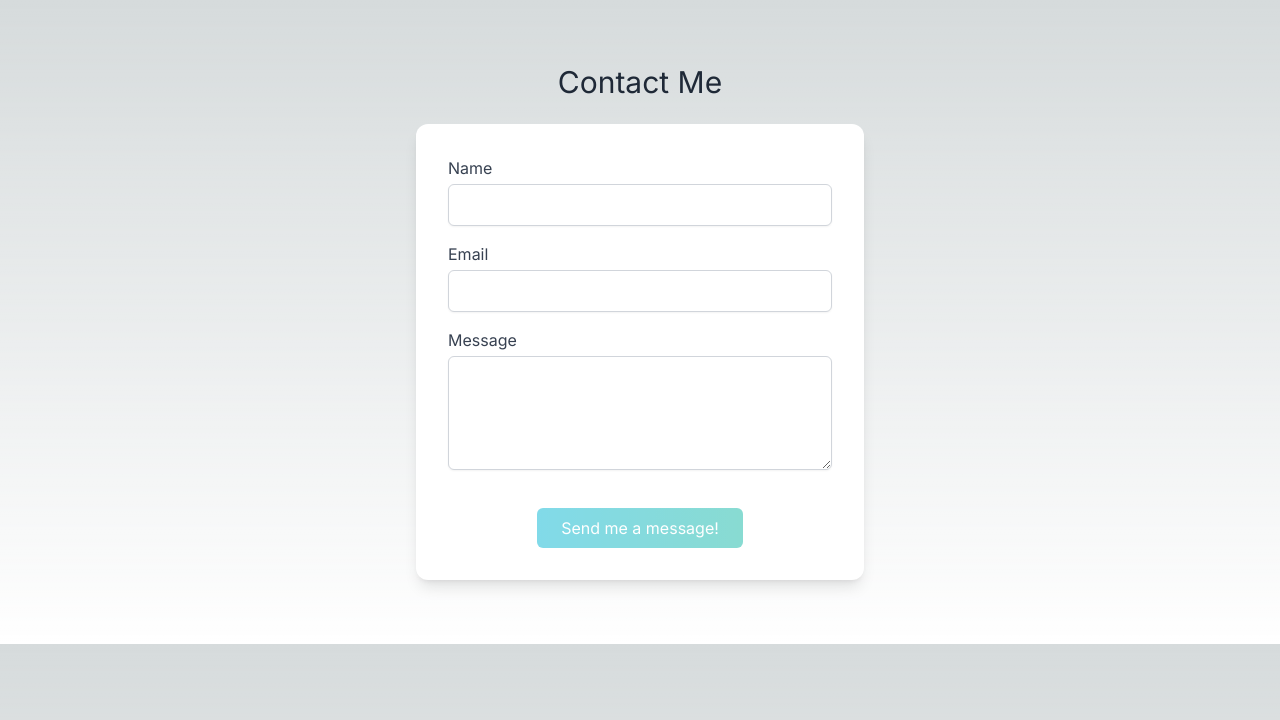
Scenario: Contact Component › validates message form field minimum length correctly
The image size is (1280, 720).
Type "short" into the text box labelled "Message" at (640, 413), box [448, 356, 832, 470]
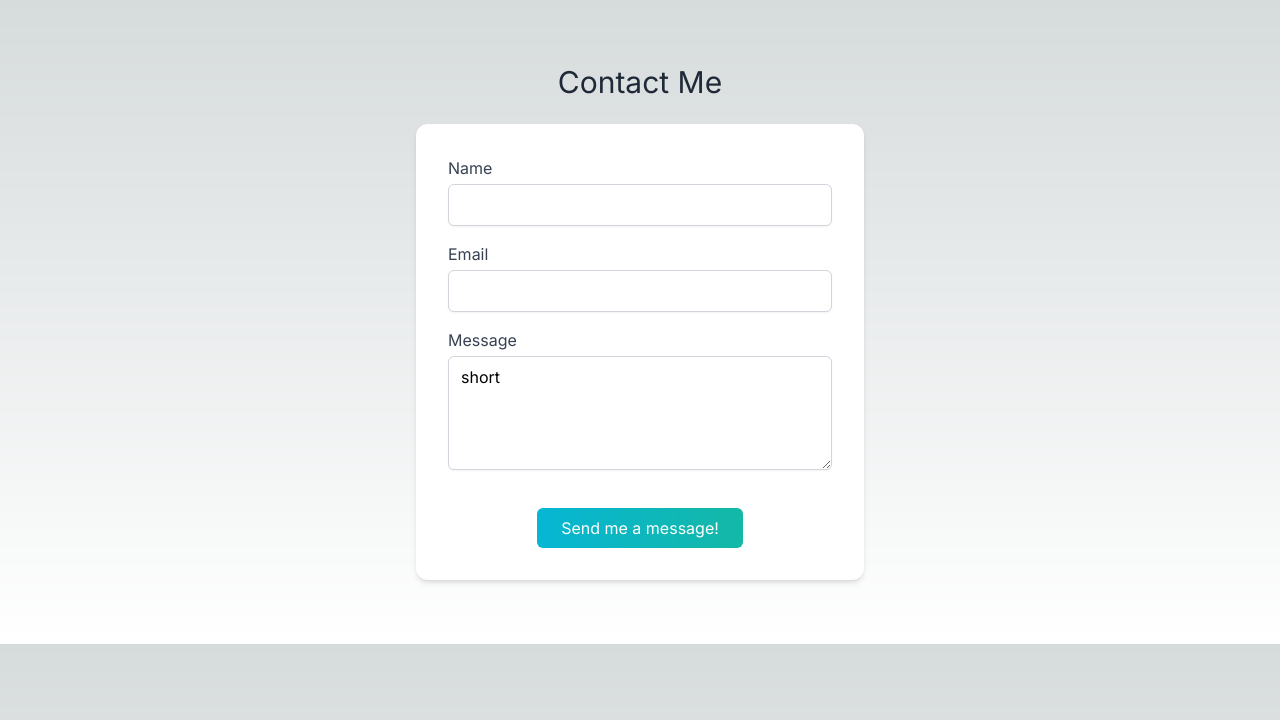
Leave the text box labelled "Message", box [448, 356, 832, 470]
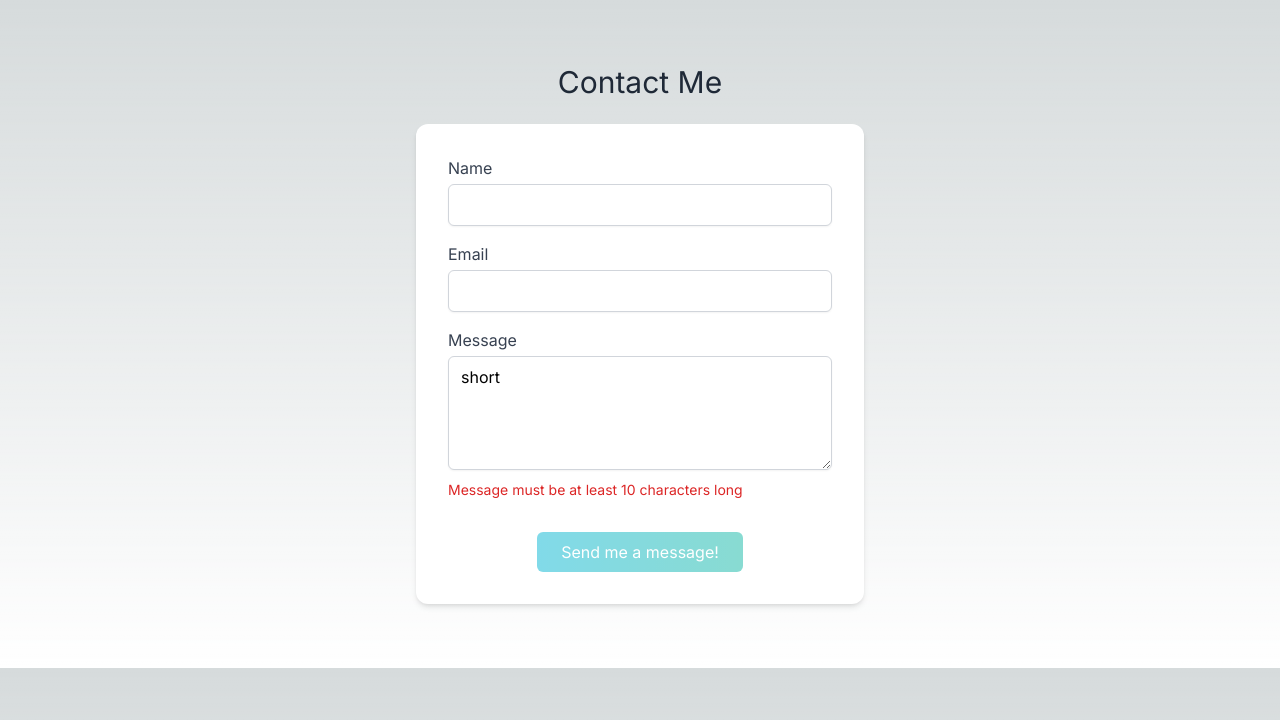
Result: the text "Message must be at least 10 characters long" is shown at [448, 481, 743, 498]
